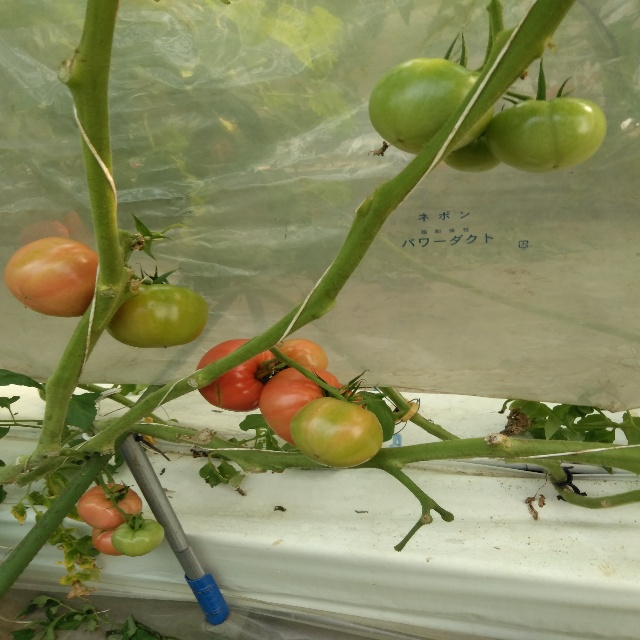b_fully_ripened: (195, 338, 276, 412)
b_green: (368, 58, 494, 160), (486, 98, 608, 173), (105, 283, 210, 349), (289, 397, 384, 469), (441, 132, 501, 173), (110, 518, 165, 557)
b_half_ripened: (258, 366, 368, 448), (3, 237, 99, 318), (77, 484, 142, 531), (272, 339, 329, 370), (92, 528, 126, 555)
